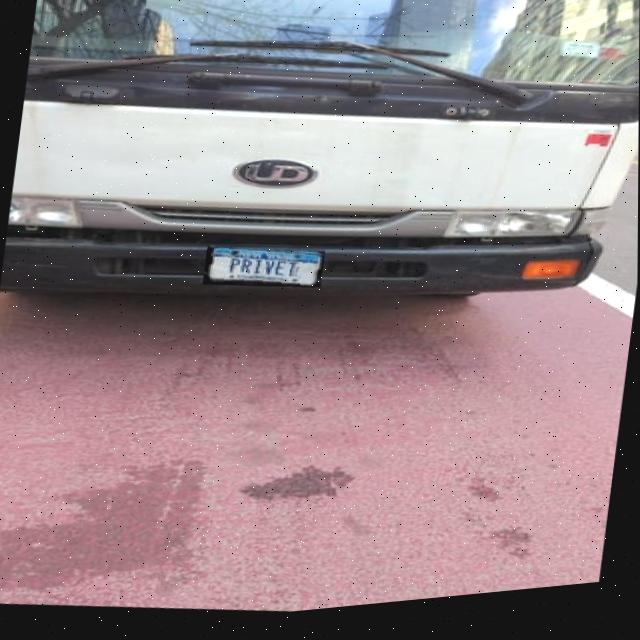LicensePlate: (203, 250, 325, 294)
